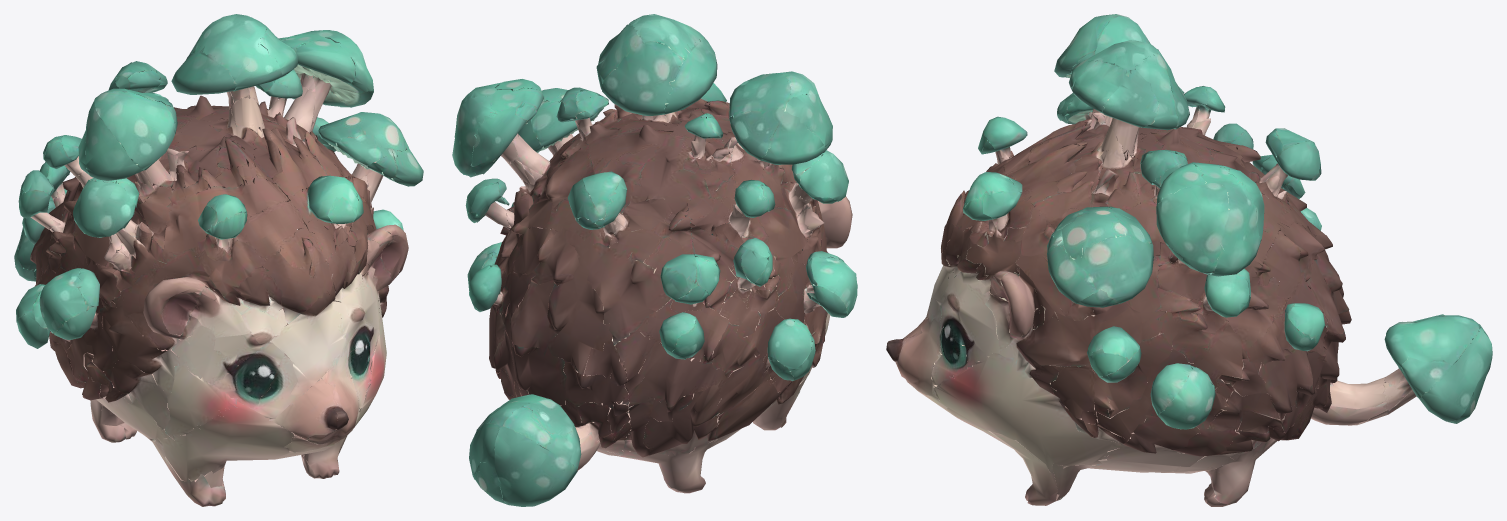
3 views of the same model, side by side, from view 1: azimuth 30°, elevation 25°; view 2: azimuth 150°, elevation 25°; view 3: azimuth 270°, elevation 25° (orthographic). The views are drawn at different scales.
Visible parts, largest first — view 1: Mesh_0; view 2: Mesh_0; view 3: Mesh_0.
Boxes of the visible parts, box(x1,y1,x2,y2) form: Mesh_0: box(14, 14, 423, 506); Mesh_0: box(452, 14, 857, 506); Mesh_0: box(886, 14, 1492, 506).
Size of the model in its own units: 1.32 by 1.51 by 1.9.
1 material, 1 textured.
